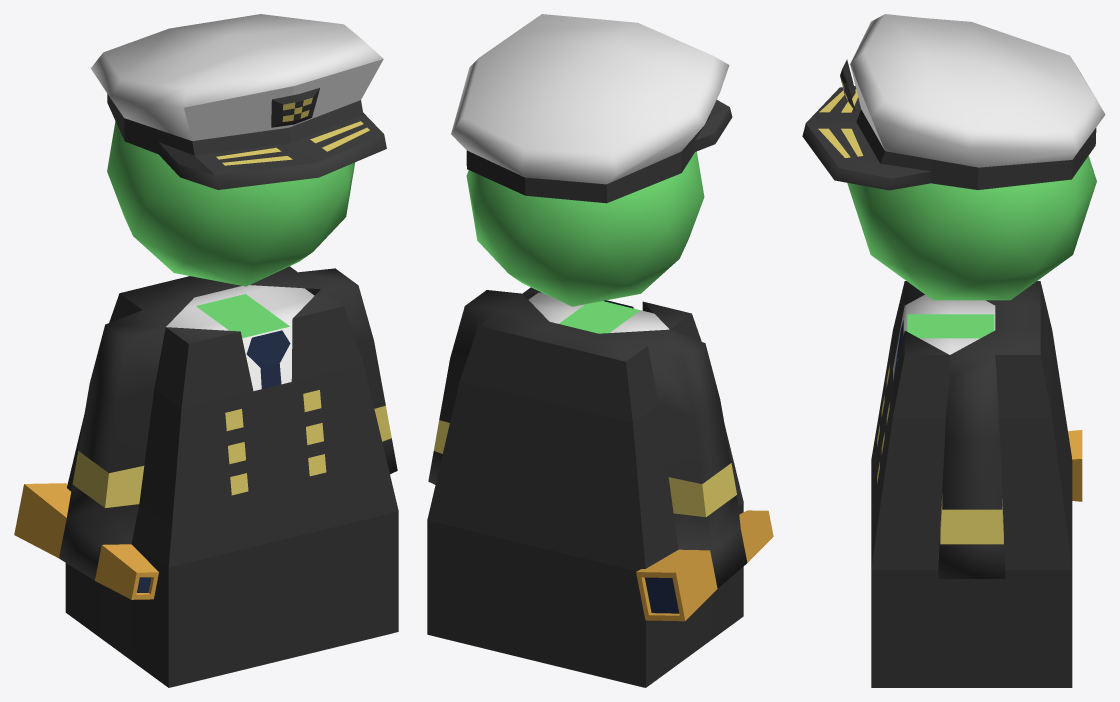
The model's file is navigator.glb.
3 renders of one model, left to right at view 1: azimuth 30°, elevation 25°; view 2: azimuth 150°, elevation 25°; view 3: azimuth 270°, elevation 25°, orthographic. The views are drawn at different scales.
Parts seen in each view (by area): view 1: Navigator; view 2: Navigator; view 3: Navigator.
Part boxes in pixels (x1=…): Navigator: x1=14, y1=14, x2=398, y2=687; Navigator: x1=427, y1=14, x2=773, y2=687; Navigator: x1=802, y1=14, x2=1105, y2=687.
Bounding box in the file's own units: 0.8386 × 1.54 × 0.7267.
